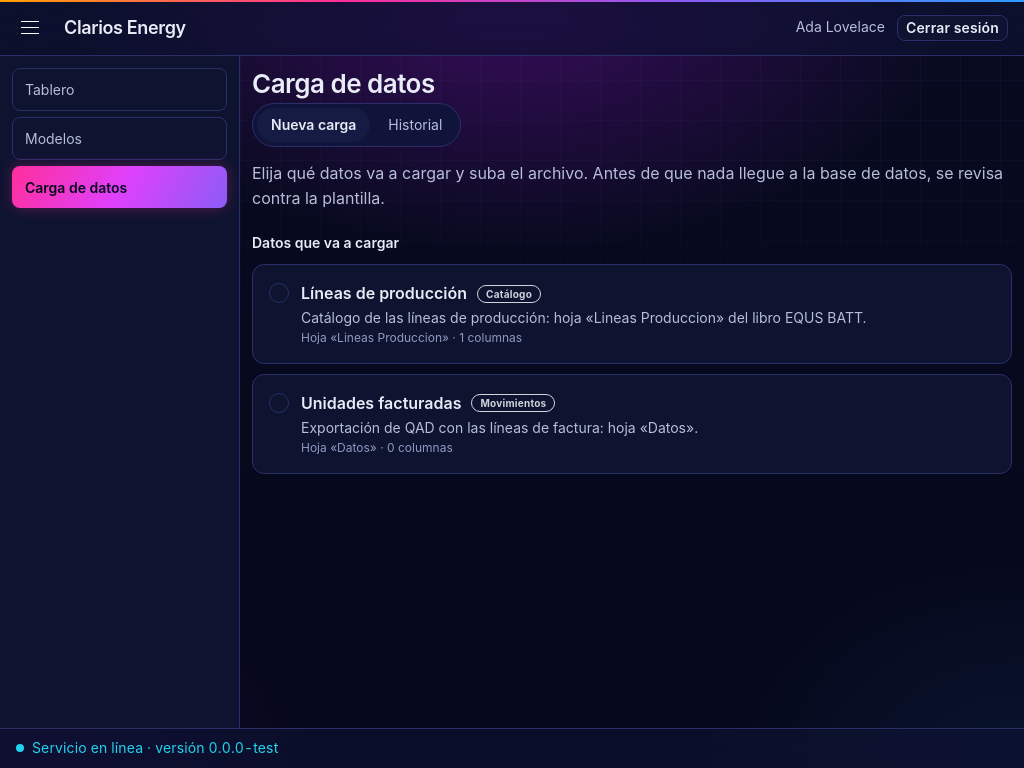
Scenario: choosing what to load › asks for a file only once a dataset is chosen
Click the radio button labelled "Líneas de producción" at {"x": 632, "y": 314}, box x1=252 y1=264 x2=1012 y2=364
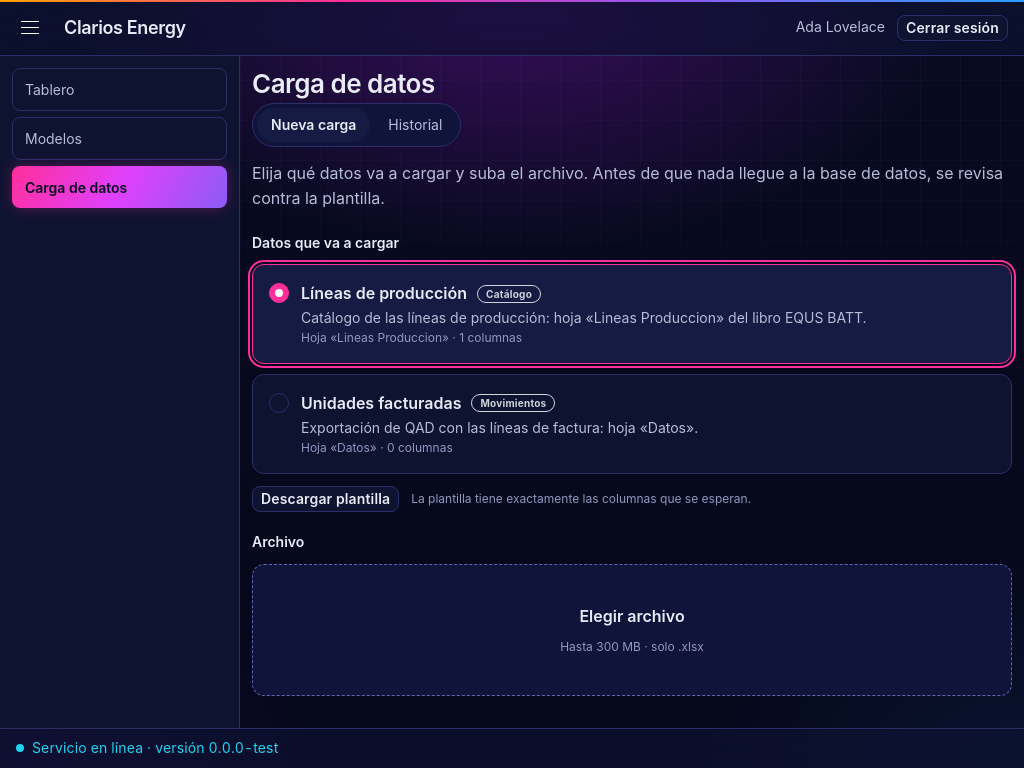
Expected: the text "Archivo" is shown, x1=252 y1=533 x2=304 y2=550
Expected: the button "Descargar plantilla" is shown, x1=252 y1=486 x2=399 y2=512
